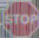Stop: (2, 3, 38, 36)
